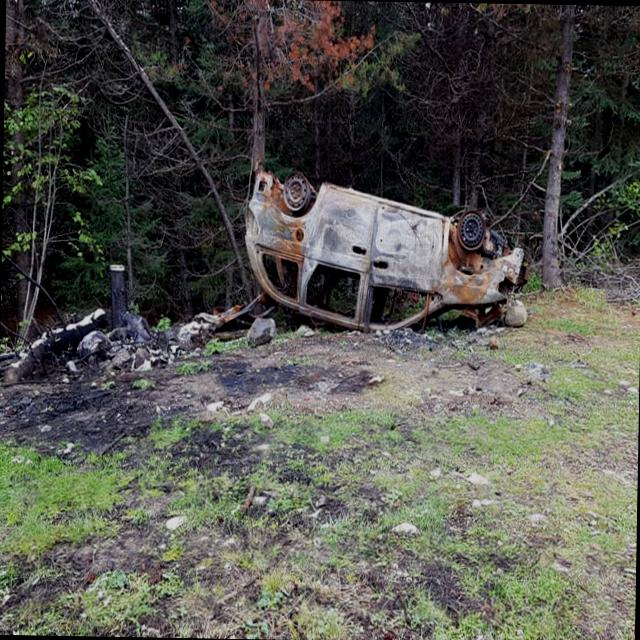garbage: (14, 150, 540, 376)
